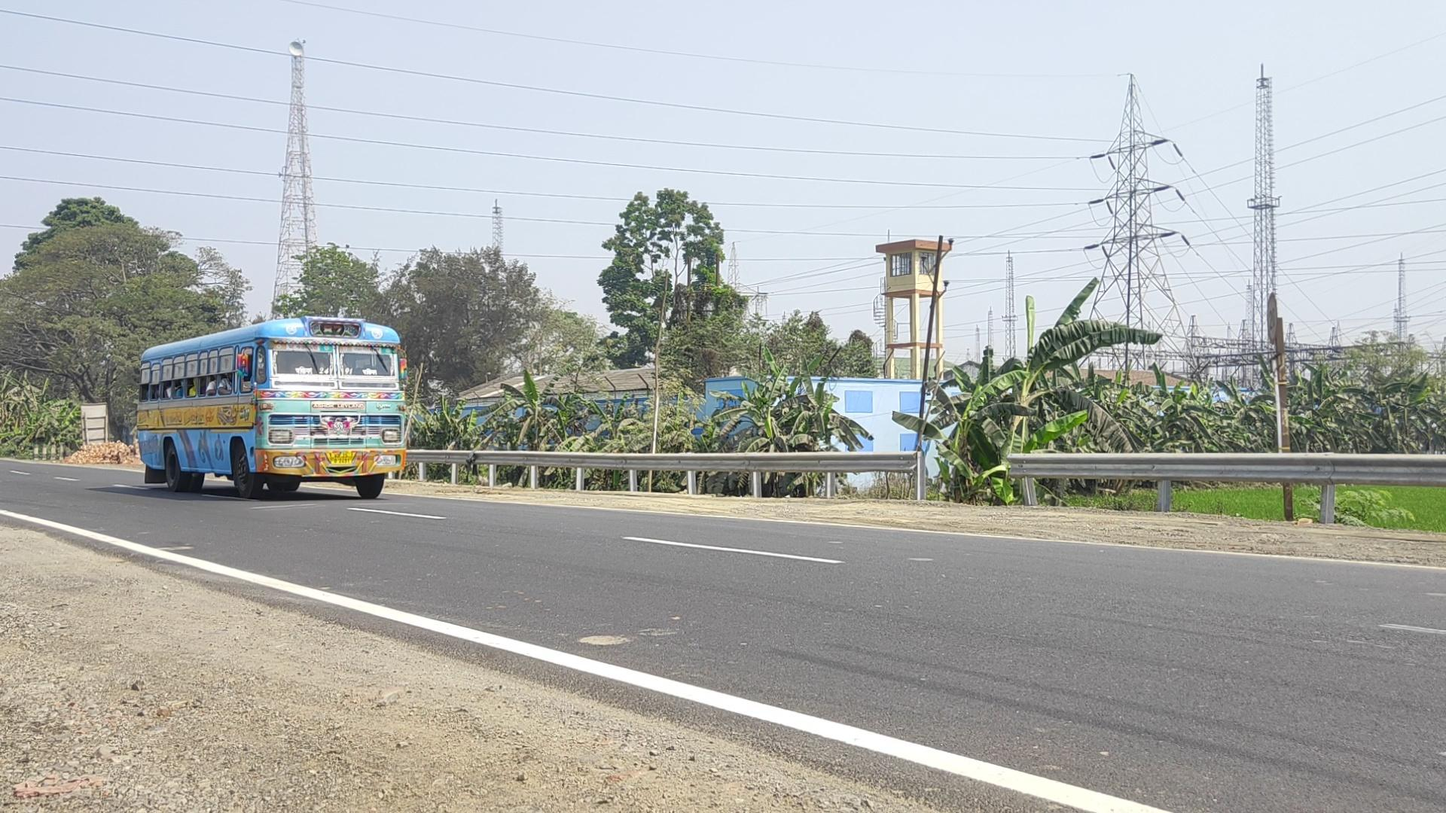Bus: (136, 315, 407, 499)
